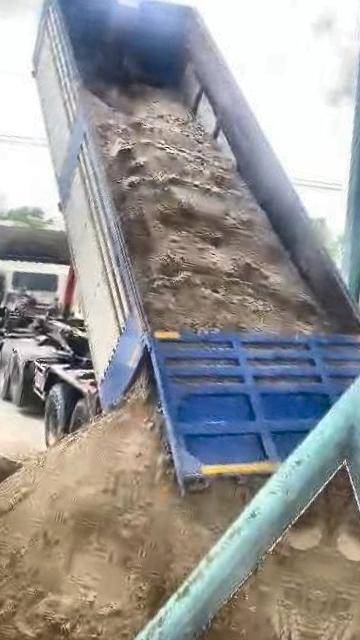sand: (0, 389, 259, 640), (87, 85, 329, 333), (161, 477, 340, 640), (0, 425, 15, 539)
